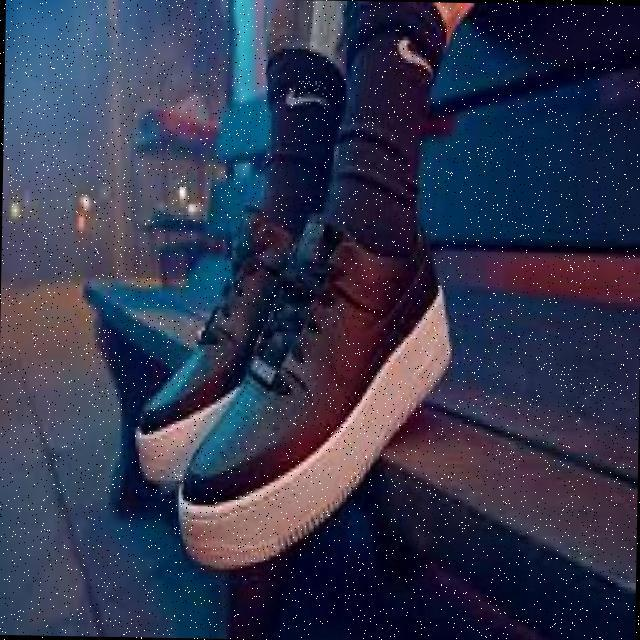Nike: (393, 26, 431, 76), (280, 80, 328, 109)
